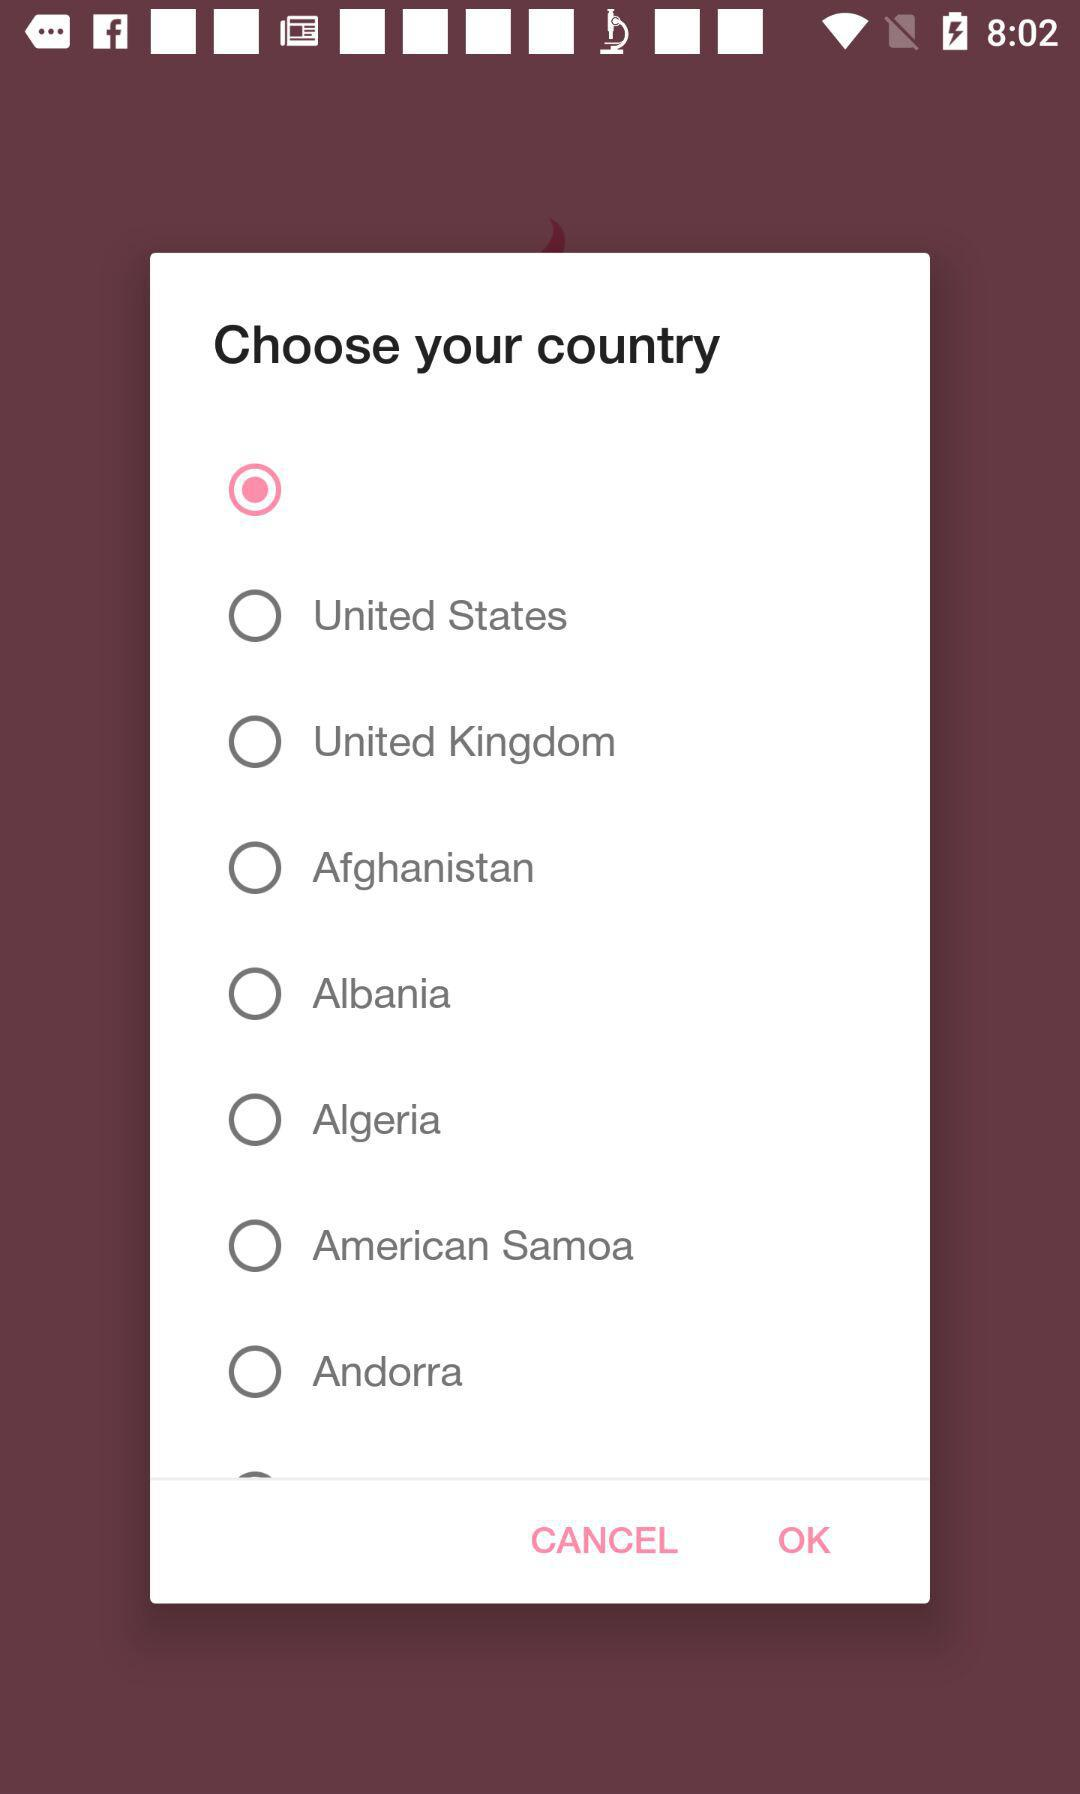CheckedTextView: (228, 1219, 635, 1274), (228, 714, 616, 770), (228, 589, 568, 645), (228, 841, 536, 896), (228, 1344, 464, 1401), (228, 966, 452, 1023), (228, 1092, 442, 1148)
Modal: (150, 252, 931, 1606)
Text: (215, 324, 723, 375), (316, 725, 616, 766), (313, 1228, 635, 1262), (313, 851, 536, 892), (316, 598, 568, 632), (313, 1103, 442, 1144), (313, 1354, 464, 1388), (530, 1524, 682, 1556), (313, 976, 452, 1011), (778, 1525, 831, 1556)
UpperTaskBar: (1, 1, 1080, 64)
